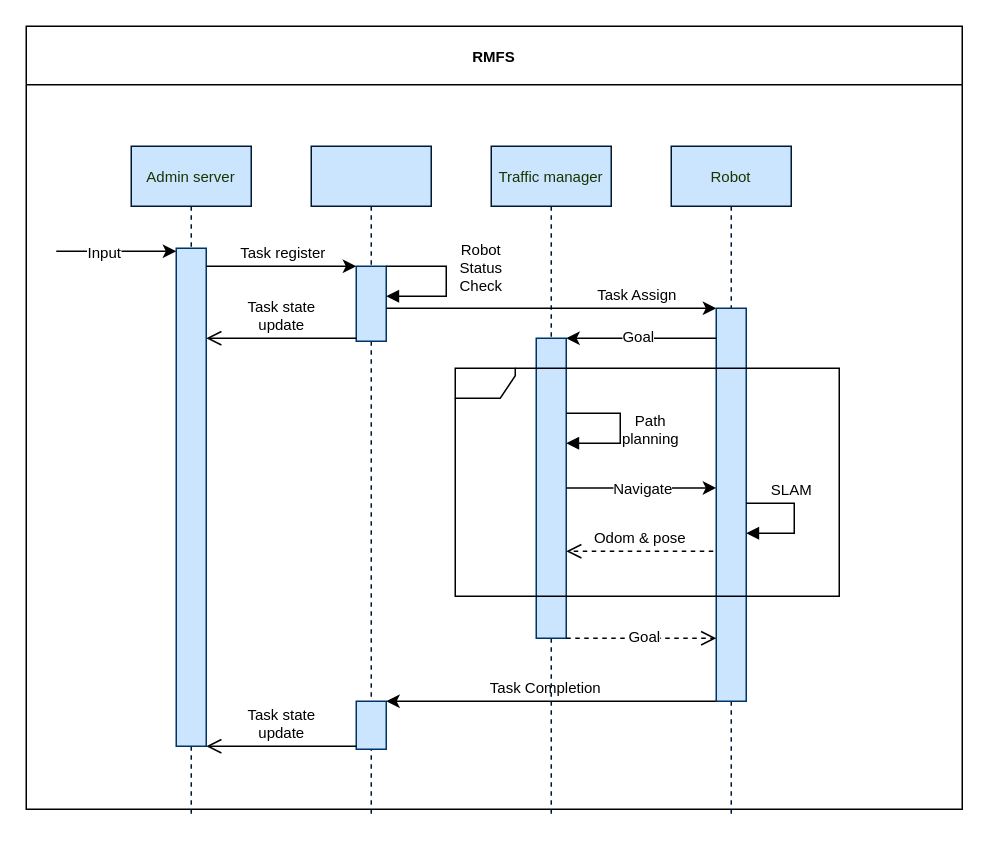
Some shapes in this 989 by 845 pixel diagram are drawn without their labels. The box of each missing label's shape, as (x1, y1, x2, y2) in pixels:
loop: (454, 367, 839, 596)
Task manager: (310, 145, 431, 818)
